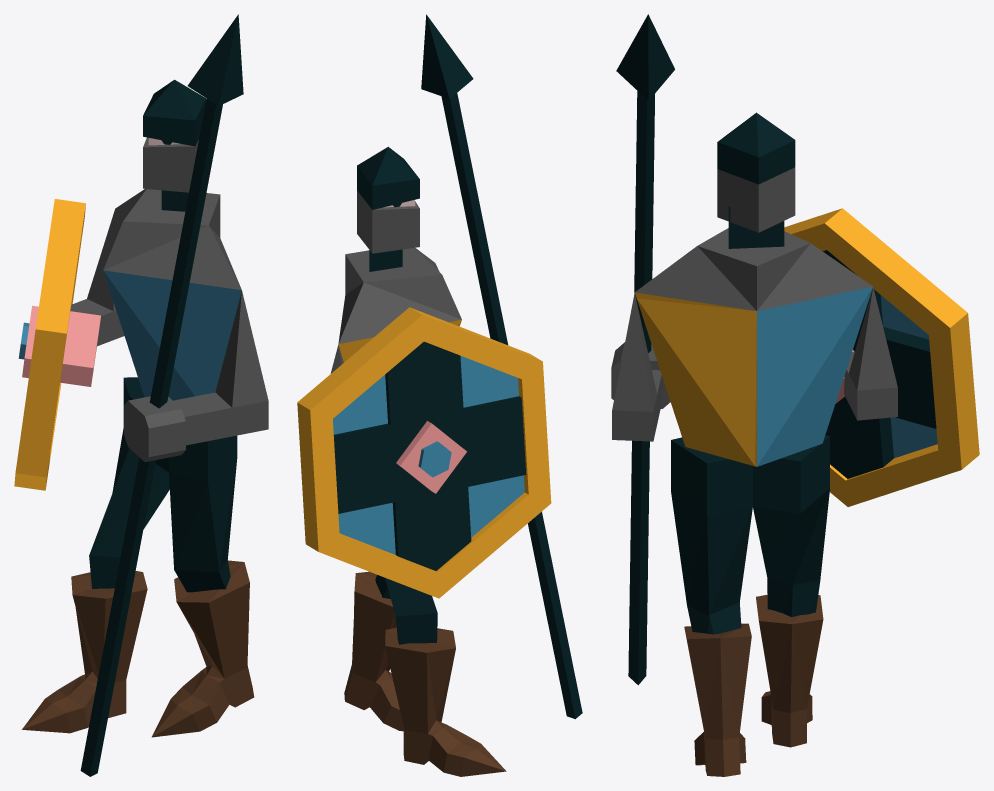
Rendered from SOLDER 1.fbx.
3 views of the same model, side by side, from view 1: azimuth 30°, elevation 25°; view 2: azimuth 150°, elevation 25°; view 3: azimuth 270°, elevation 25° (orthographic). The views are drawn at different scales.
Parts seen in each view (by area): view 1: SOLDER_1_1; view 2: SOLDER_1_1; view 3: SOLDER_1_1.
Part boxes in pixels (x1,y1,x2,y2): SOLDER_1_1: [14, 14, 268, 776]; SOLDER_1_1: [297, 14, 582, 776]; SOLDER_1_1: [611, 14, 979, 776].
Bounding box in the file's own units: 79.23 × 242 × 107.
Materials: 1 (1 with a texture image).
